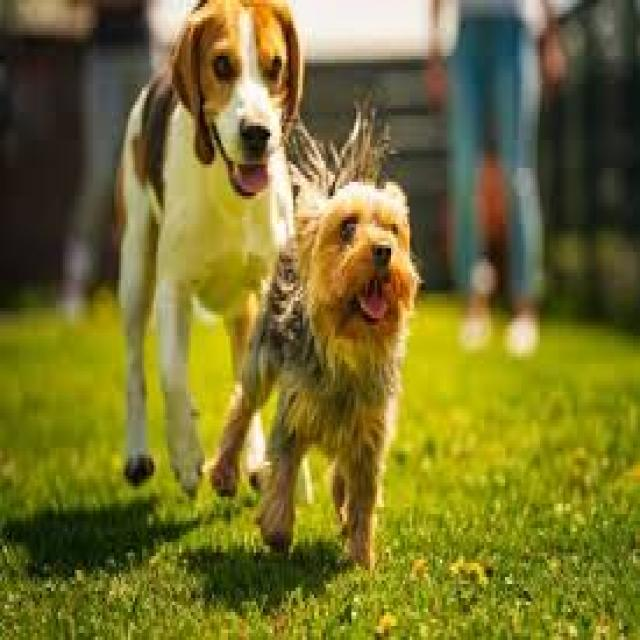Dog: (208, 166, 422, 554), (117, 0, 312, 289)
